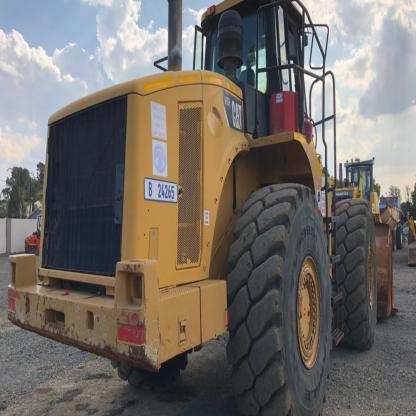bull_dozer/loader/grader: (14, 6, 390, 388)
